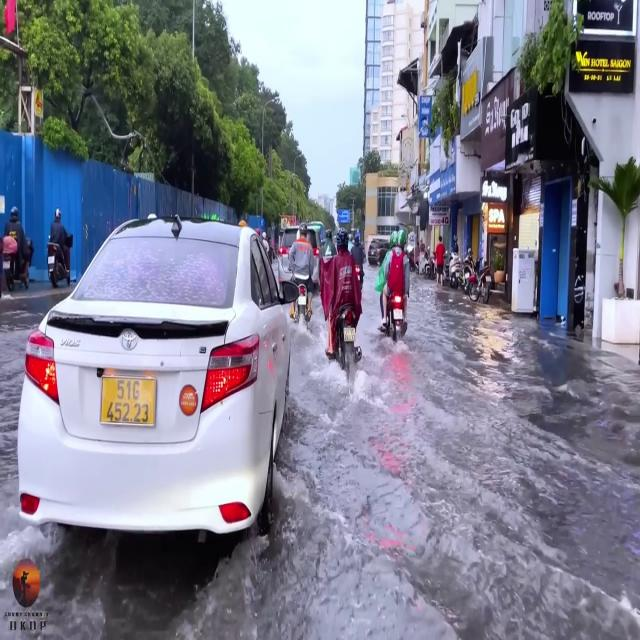bien_vang: (95, 374, 157, 431)
